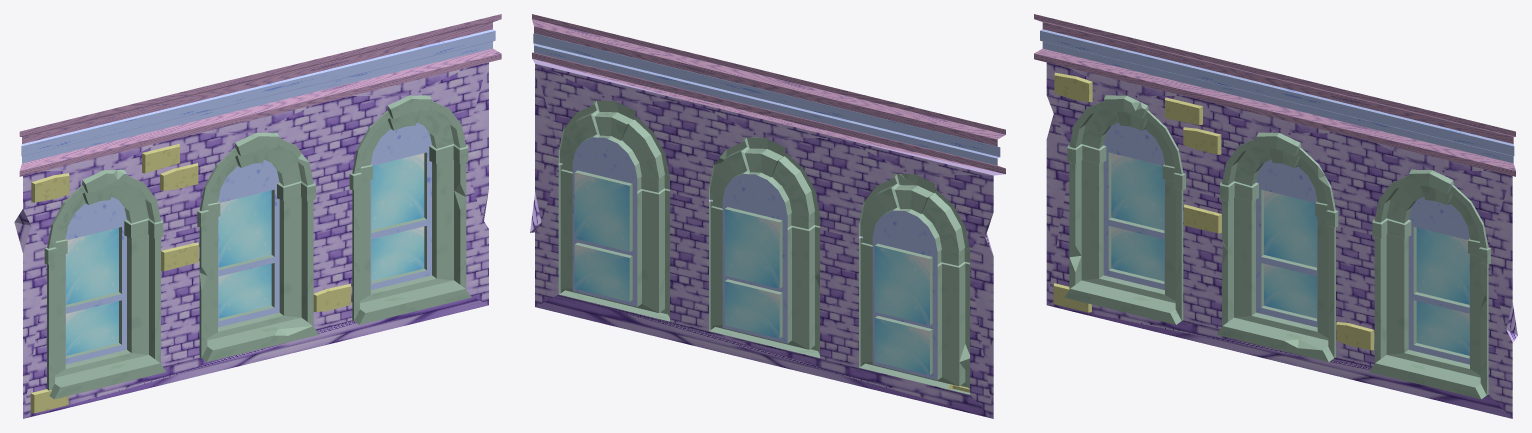
Rendered from House_02_Front_Windows.fbx.
3 renders of one model, left to right at view 1: azimuth 30°, elevation 25°; view 2: azimuth 150°, elevation 25°; view 3: azimuth 330°, elevation 25°, orthographic.
Parts seen in each view (by area): view 1: SM_Bld_Apartment_02; view 2: SM_Bld_Apartment_02; view 3: SM_Bld_Apartment_02.
Boxes of the visible parts, left/top/right/bottom form: SM_Bld_Apartment_02: left=14, top=14, right=501, bottom=418; SM_Bld_Apartment_02: left=530, top=14, right=1005, bottom=418; SM_Bld_Apartment_02: left=1034, top=14, right=1517, bottom=418.
Bounding box in the file's own units: 517 × 300 × 35.7.
